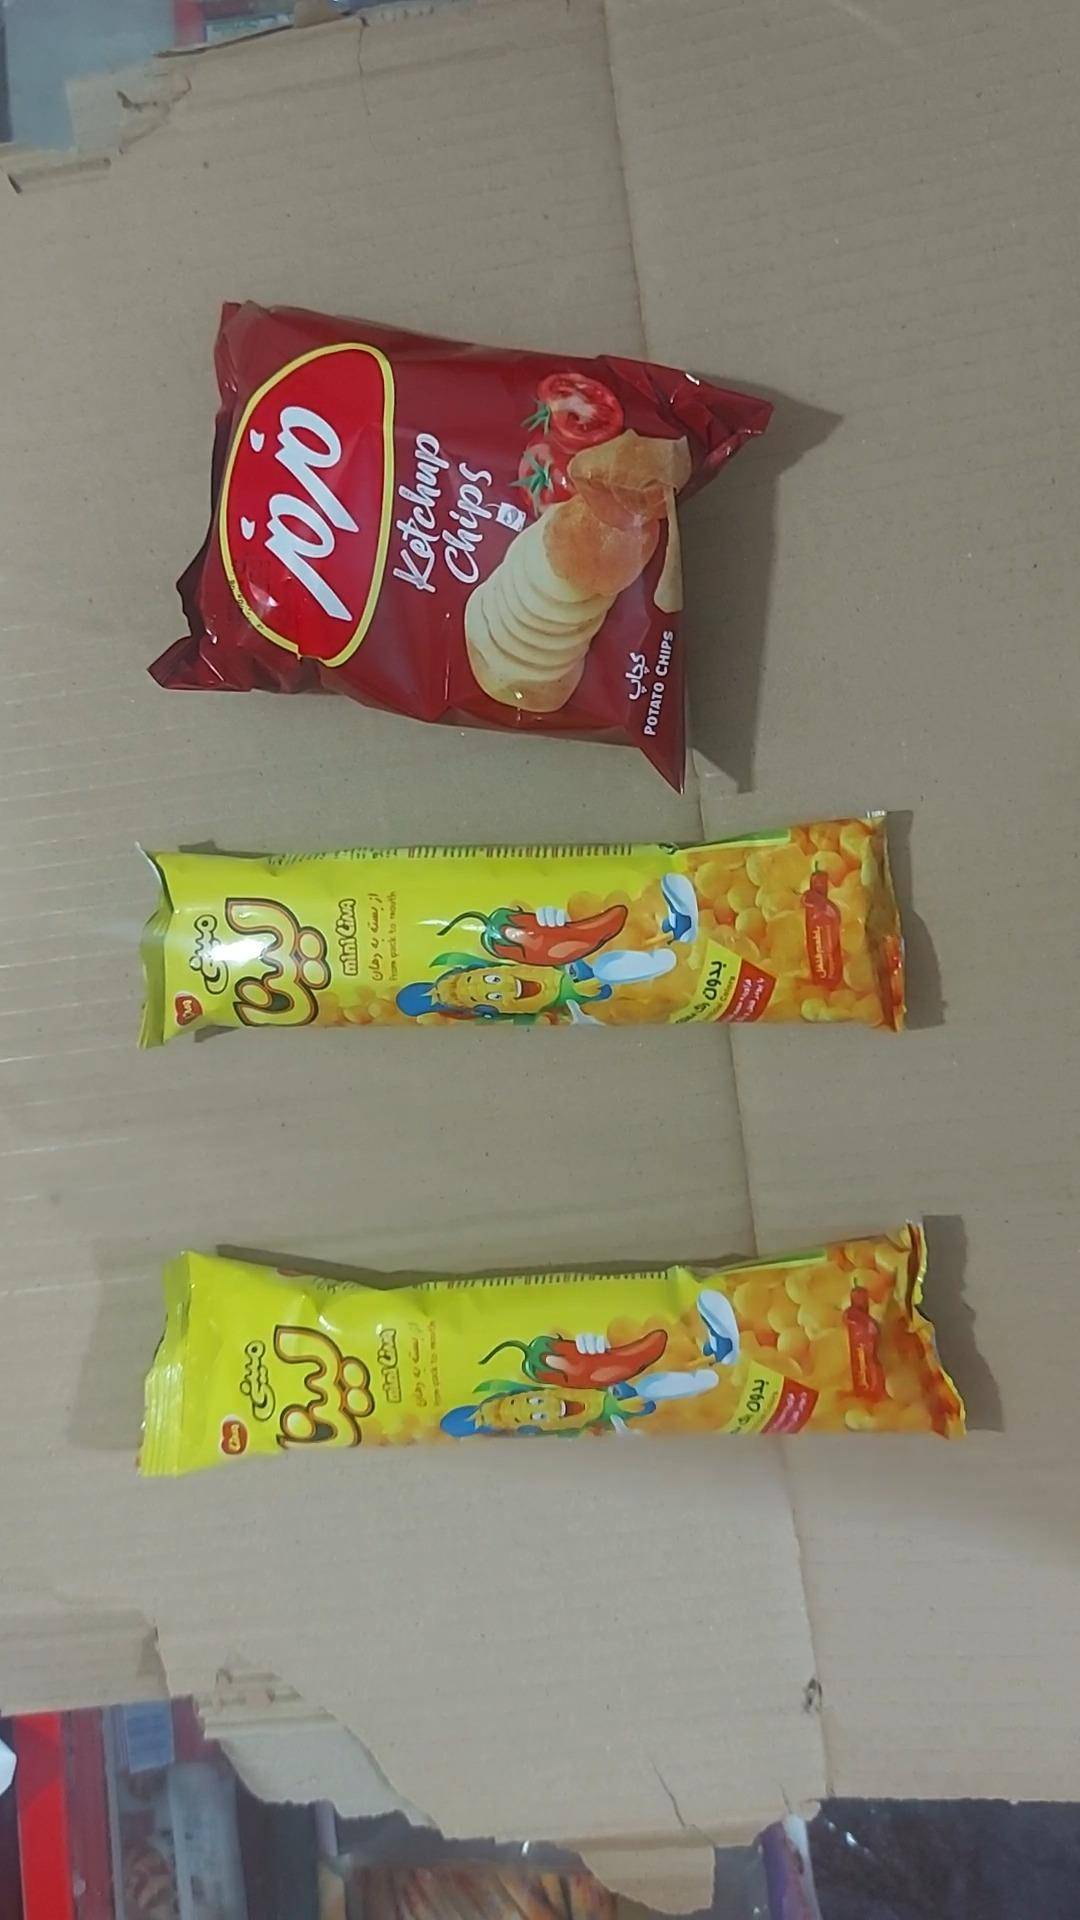Maz Maz ketchup chips: (149, 303, 770, 786)
Mini Lina: (137, 1225, 964, 1476), (140, 818, 905, 1047)
